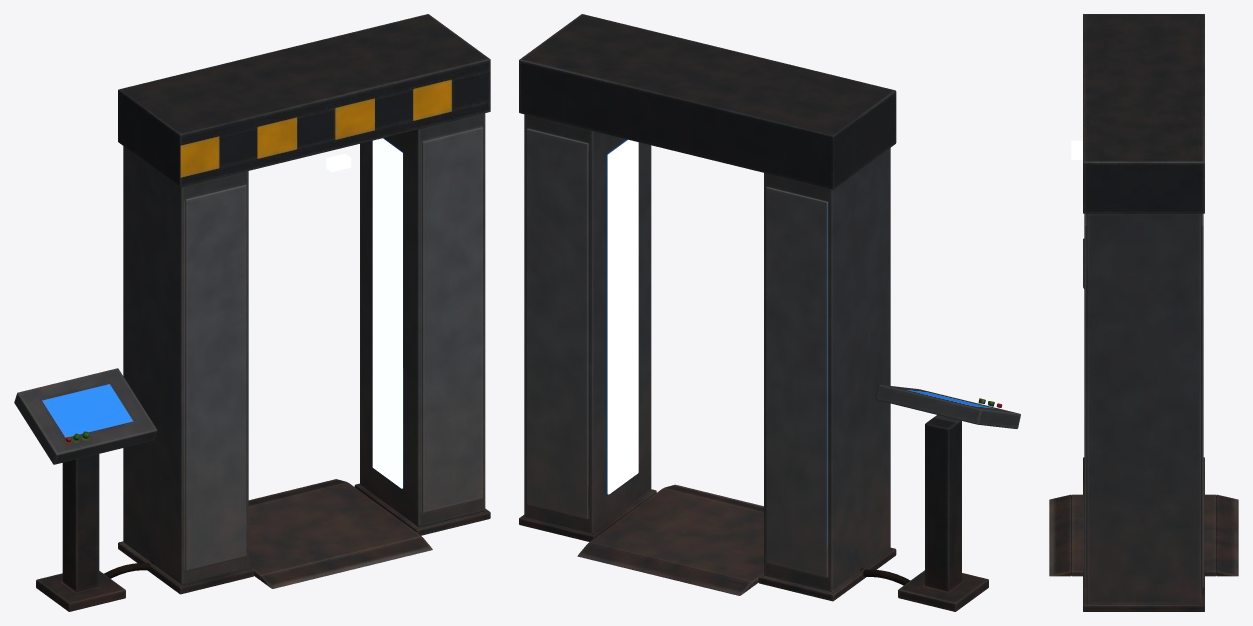
File: scanner_arch.glb
3 renders of one model, left to right at view 1: azimuth 30°, elevation 25°; view 2: azimuth 150°, elevation 25°; view 3: azimuth 270°, elevation 25°, orthographic. The views are drawn at different scales.
Parts seen in each view (by area): view 1: scanner_arch; view 2: scanner_arch; view 3: scanner_arch.
Part boxes in pixels (box(x1,y1,x2,y2)): scanner_arch: box(14, 14, 490, 611); scanner_arch: box(519, 14, 1020, 611); scanner_arch: box(1049, 14, 1238, 611).
Bounding box in the file's own units: 2.57 × 2.6 × 0.9926.
Materials: 2 (2 with a texture image).
